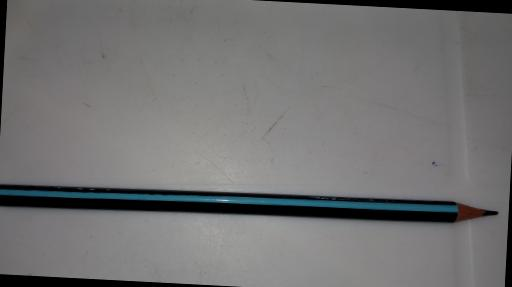Pencil: (0, 178, 500, 234)
